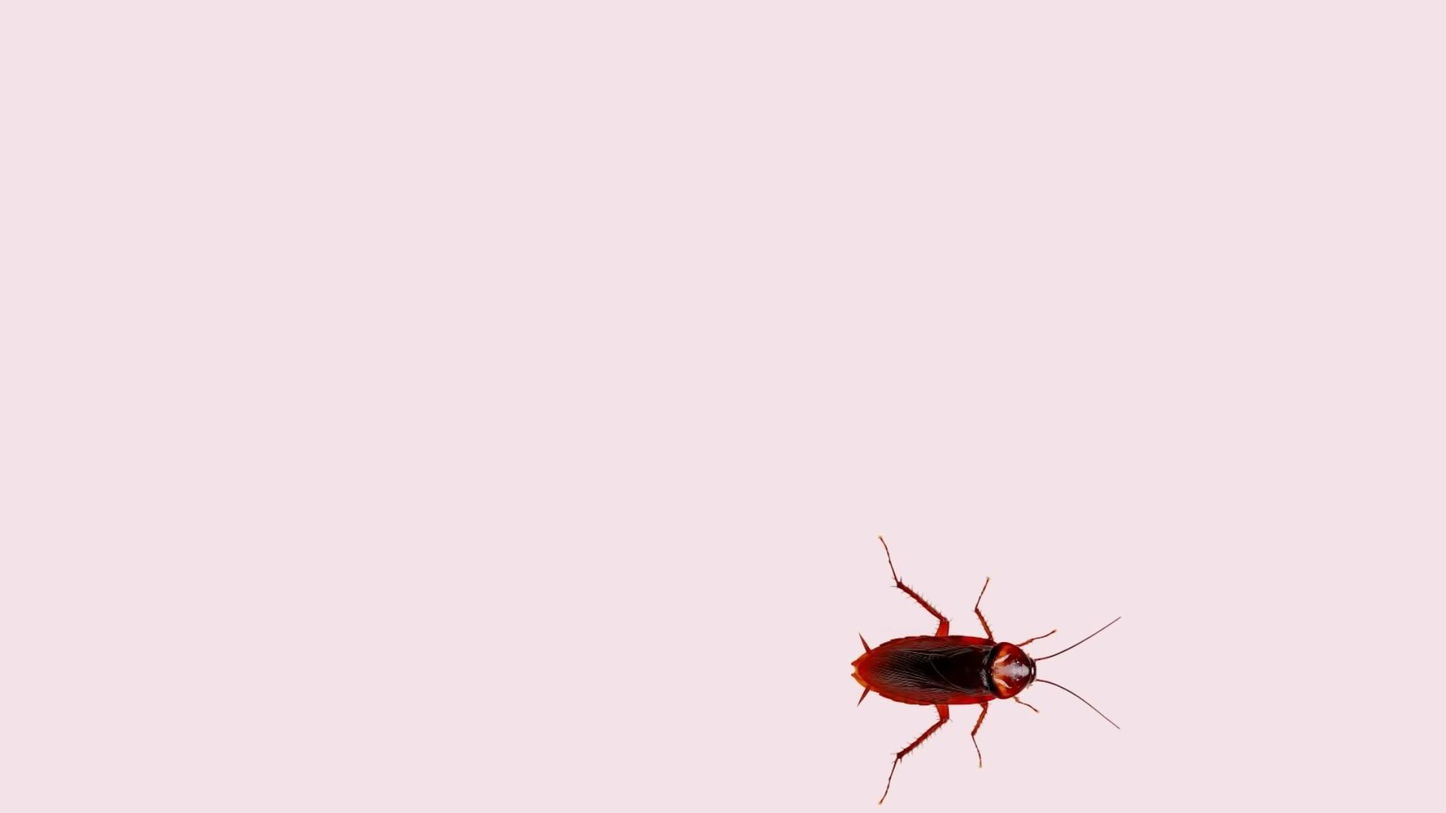cockroach: (814, 533, 1127, 796)
